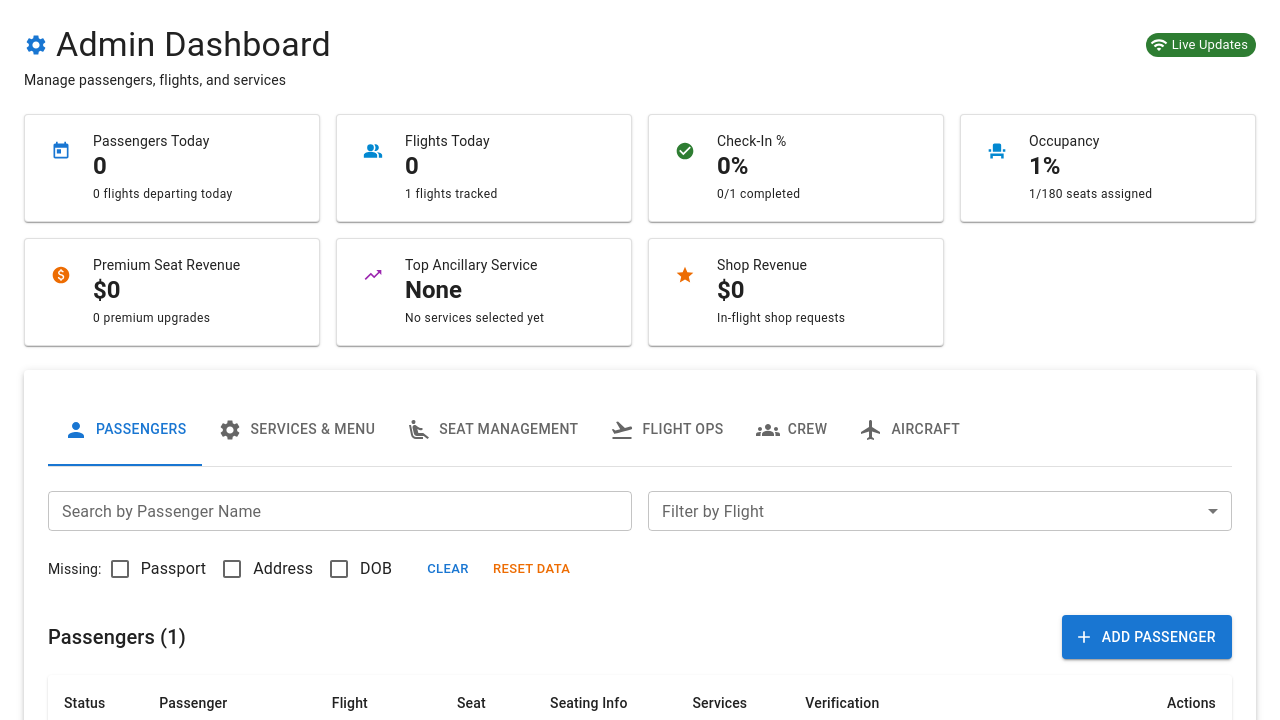
Test case: AdminDashboard › Confirm Dialog › should close confirm dialog on cancel
Click the tab "Services & Menu" at (297, 430), box [202,394,391,466]
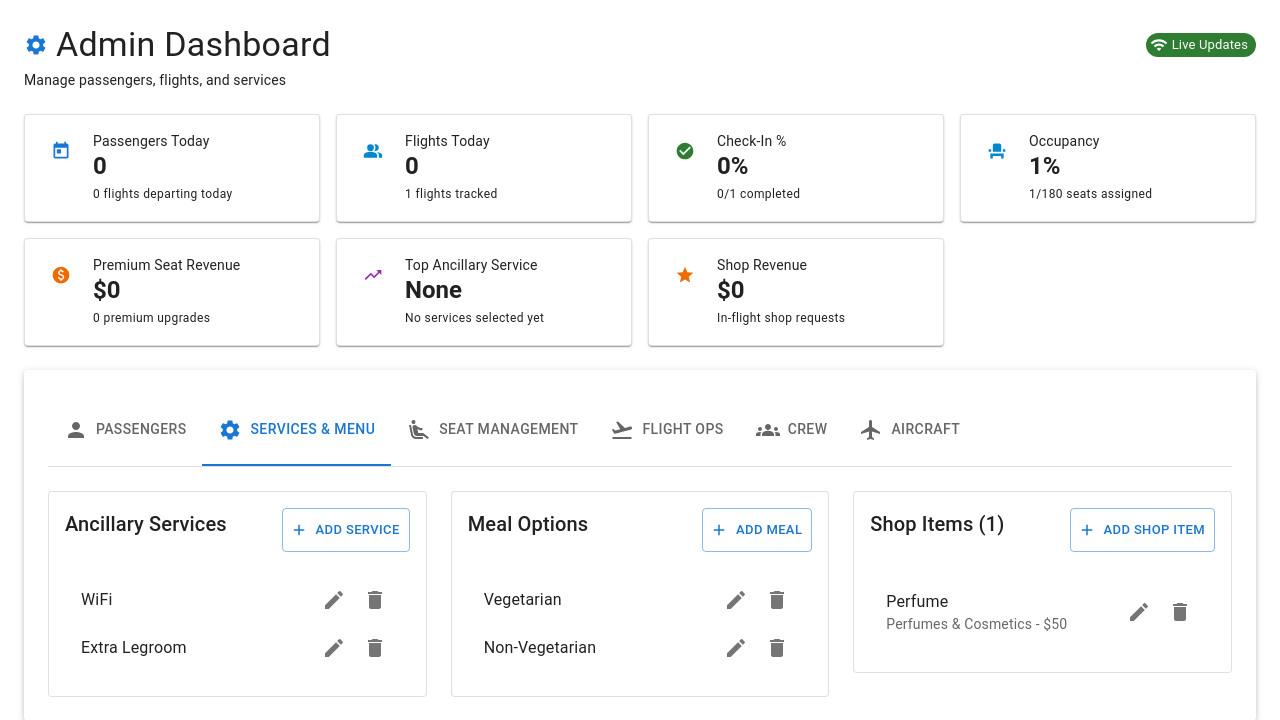
Click the button named "delete" at (375, 600), box [353,578,397,622]
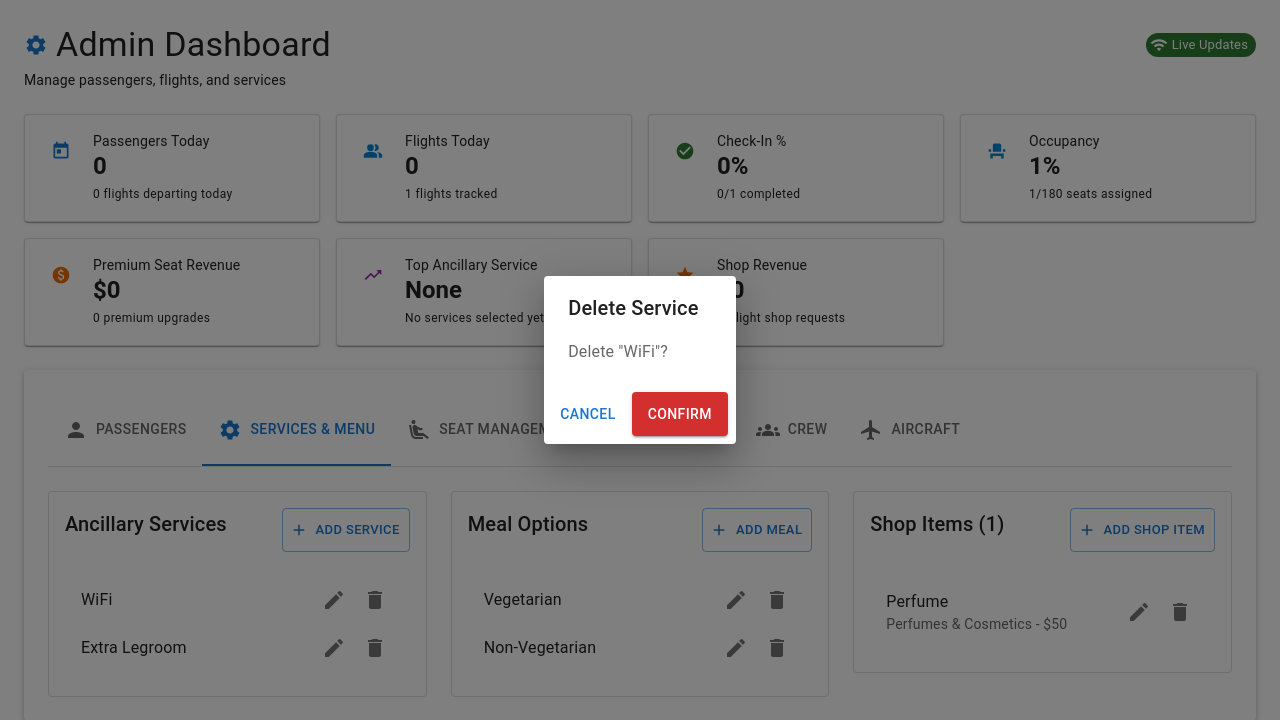
Find and click cancel button
Click the button "Cancel" at (588, 414), box [552,392,624,436]
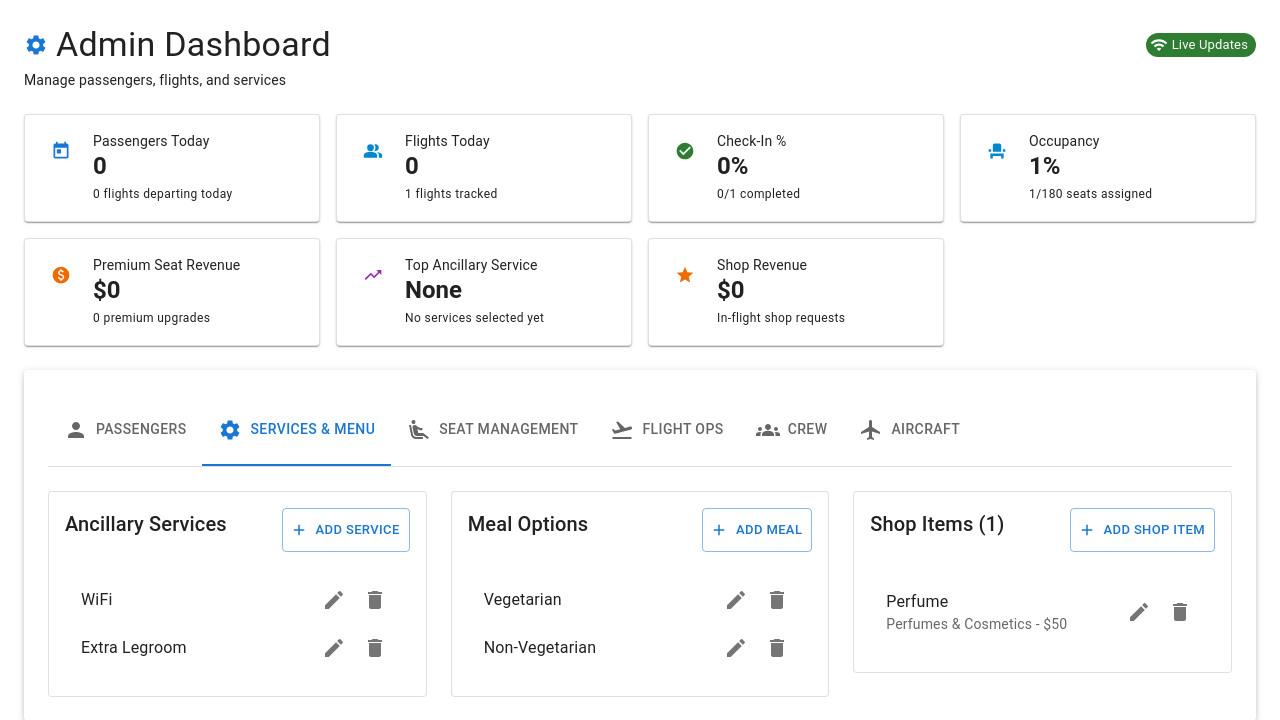
expect the heading "Delete" is gone: met
